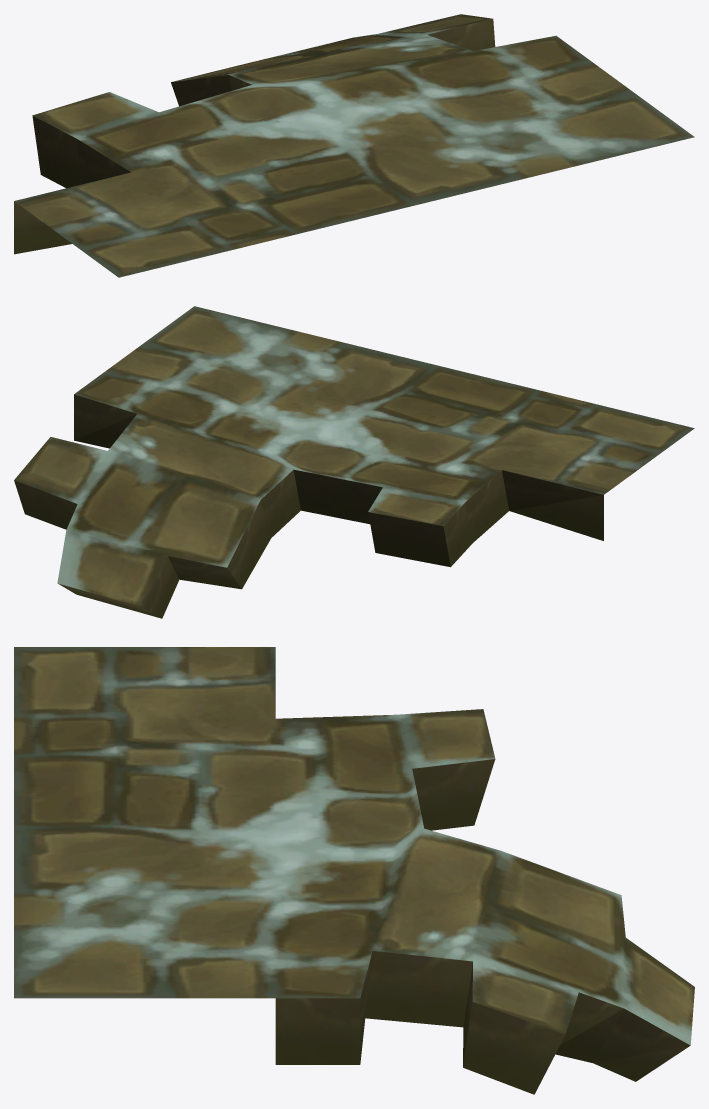
The model's file is tundra_floor_cobble_hole_02.fbx.
3 renders of one model, top to bottom at view 1: azimuth 30°, elevation 25°; view 2: azimuth 150°, elevation 25°; view 3: azimuth 270°, elevation 25°, orthographic. The views are drawn at different scales.
Parts seen in each view (by area): view 1: obj0.158; view 2: obj0.158; view 3: obj0.158.
Boxes of the visible parts, x1,y1,x2,y2 form: obj0.158: [14, 14, 694, 277]; obj0.158: [14, 306, 694, 618]; obj0.158: [14, 647, 694, 1094].
Size of the model in its own units: 4 by 0.8248 by 3.28.
